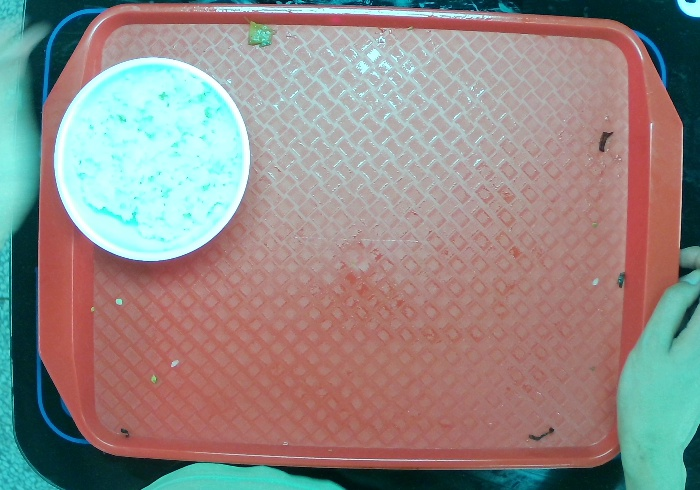YKMZ-Fan_Wan: (47, 51, 255, 260)
